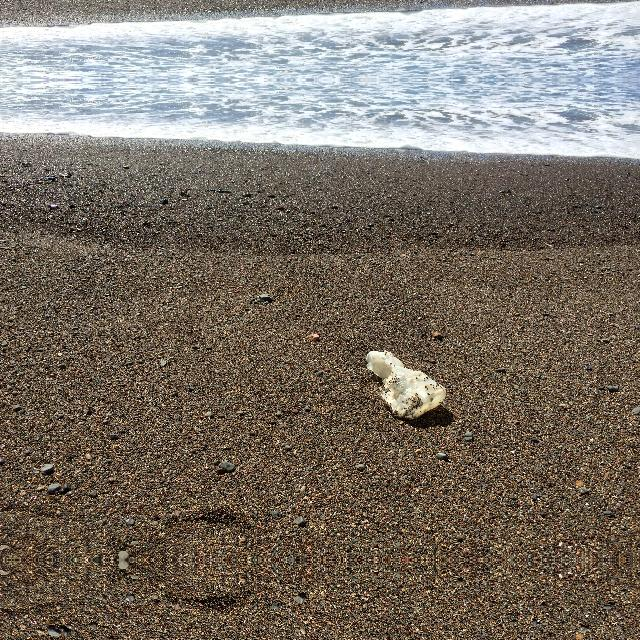Plastic: (360, 347, 452, 428)
